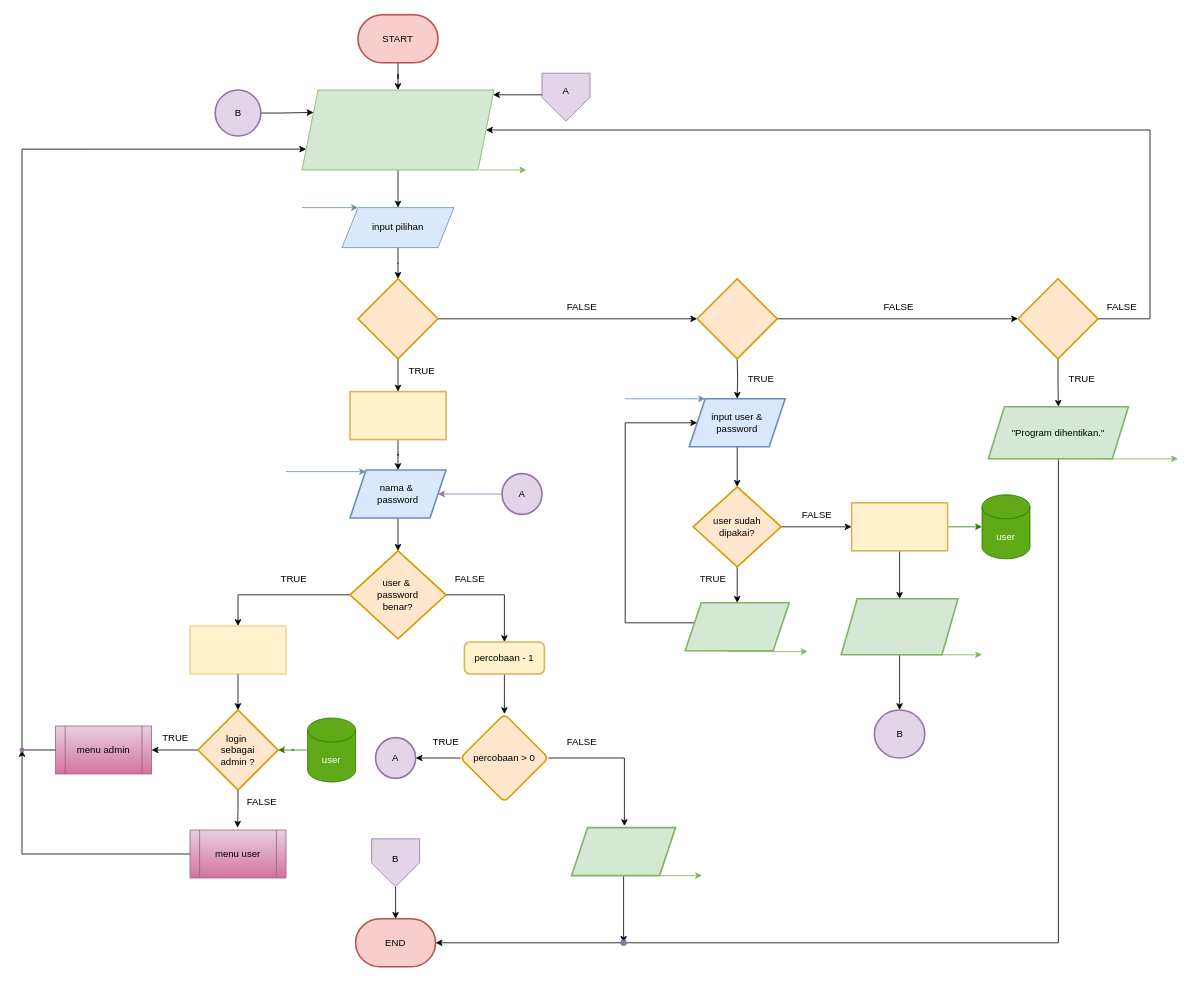
Some shapes in this 1198 by 981 pixel diagram are drawn without their labels. Each missing label, with the centre of its shape:
" Registrasi berhasik silahkan login": pixel 899 626
"Akses ditolak, Program Berhenti": pixel 623 851
"Error: Username sudah terdaftar!": pixel 737 626
1. Login ke Sistem 2. Registrasi Akun Baru 3. Tutup Program: pixel 397 129
buat user dan password baru: pixel 899 526
login berhasil: pixel 237 649
percobaan = 3: pixel 397 415
pilihan = 1?: pixel 397 318
pilihan = 2?: pixel 737 318
pilihan = 3?: pixel 1057 318
